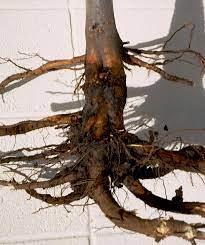root_rot: (29, 0, 205, 235)
